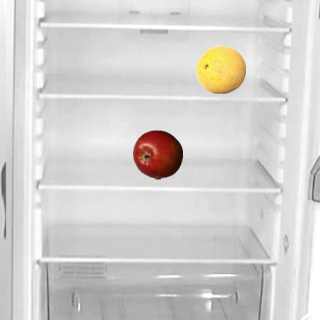Apple Braeburn: (132, 129, 182, 179)
Cantaloupe 1: (195, 44, 245, 94)
